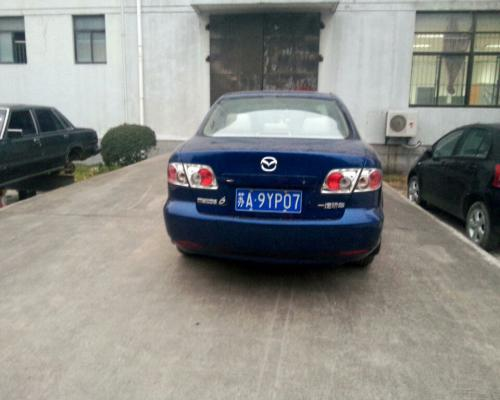Carplate: (232, 181, 304, 215)
